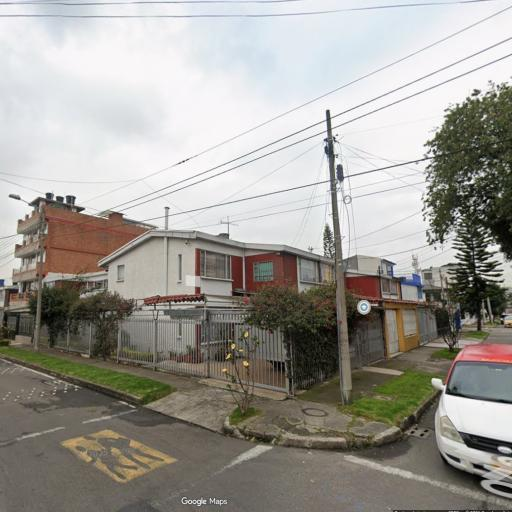Casa: (89, 206, 336, 404), (9, 189, 109, 357)
postes: (321, 109, 359, 413), (9, 193, 53, 354)
